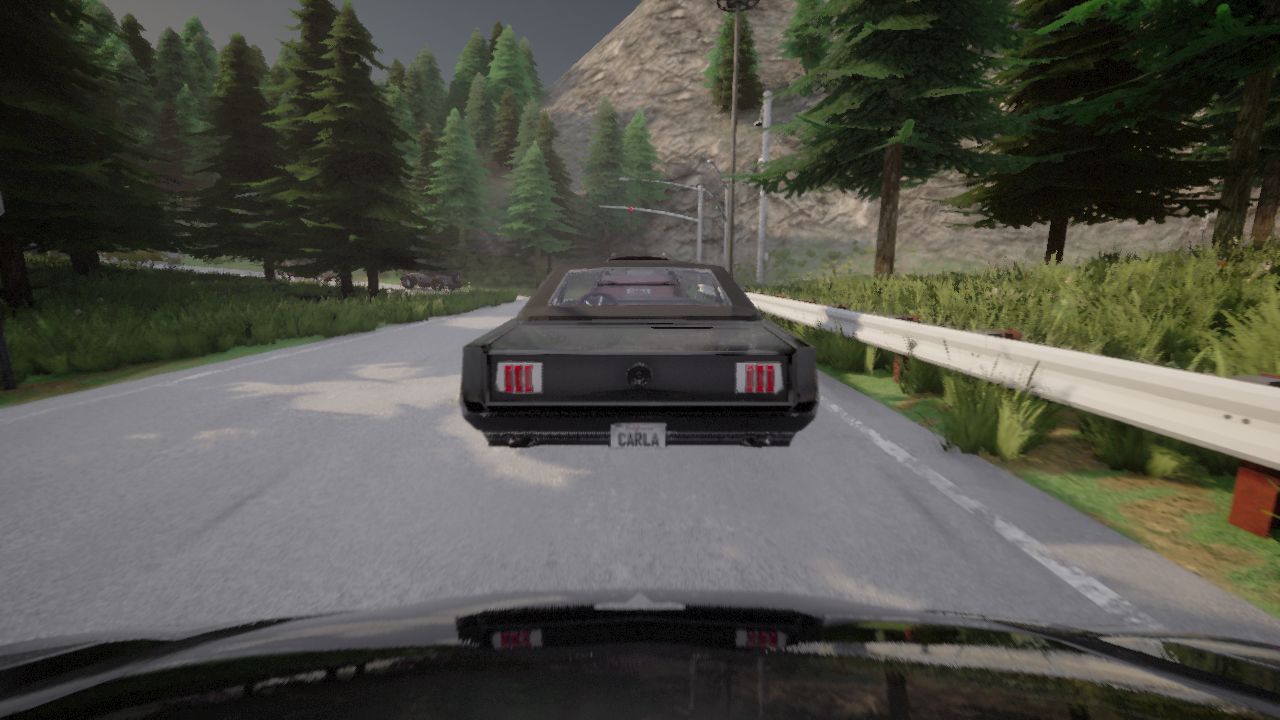cyclist: (0, 588, 1279, 719), (459, 261, 818, 448), (23, 220, 184, 261), (104, 242, 182, 268), (401, 263, 462, 292), (280, 259, 340, 284), (274, 258, 336, 276), (607, 252, 670, 260)
